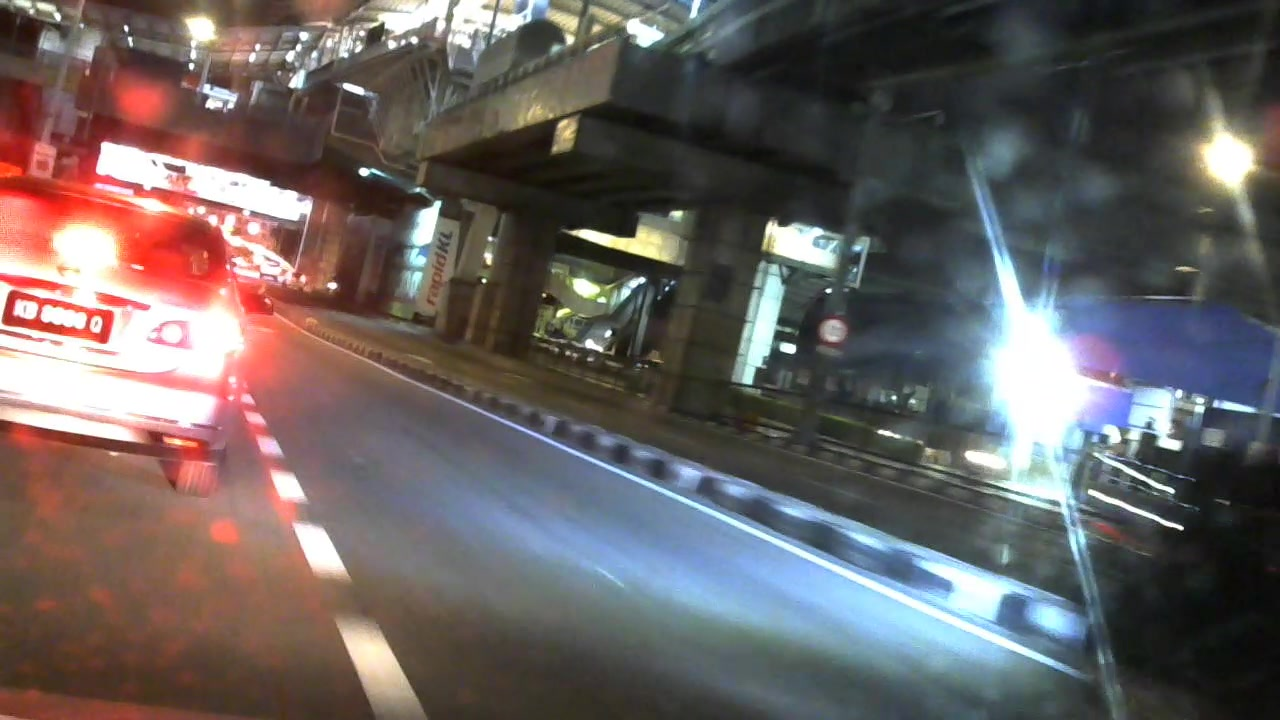Car: (1, 164, 249, 503), (258, 257, 288, 283)
